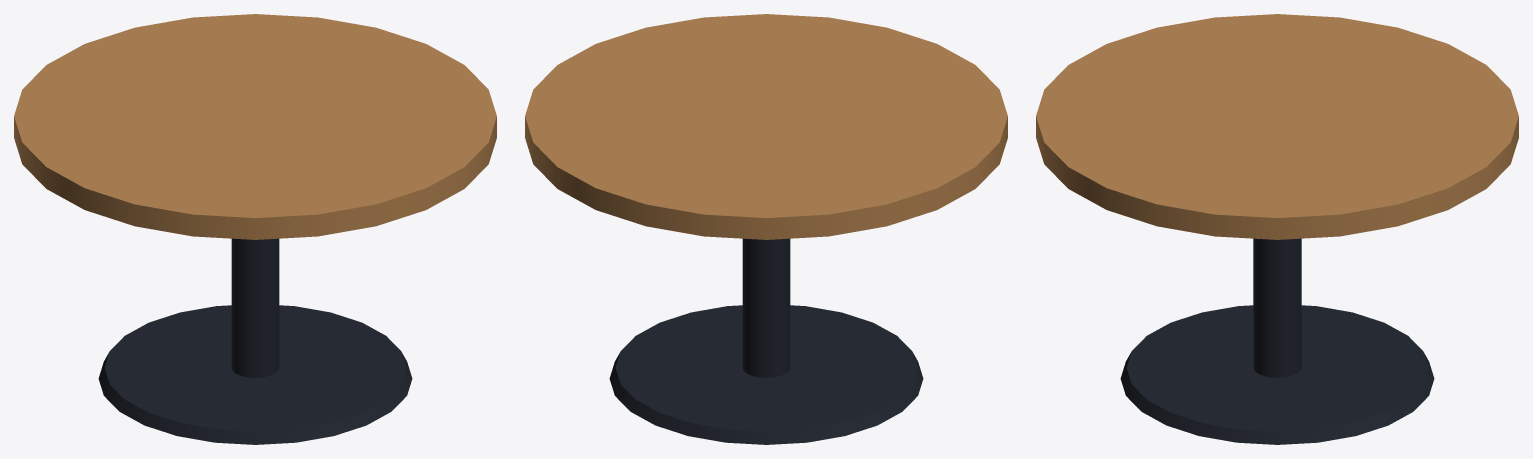
Rendered from coffee_table.glb.
3 views of the same model, side by side, from view 1: azimuth 30°, elevation 25°; view 2: azimuth 150°, elevation 25°; view 3: azimuth 270°, elevation 25° (orthographic).
Parts seen in each view (by area): view 1: CoffeeTable; view 2: CoffeeTable; view 3: CoffeeTable.
Part boxes in pixels (bbox=[...]): CoffeeTable: bbox=[14, 14, 496, 444]; CoffeeTable: bbox=[525, 14, 1007, 444]; CoffeeTable: bbox=[1036, 14, 1518, 444].
Bounding box in the file's own units: 0.8 × 0.48 × 0.8.
